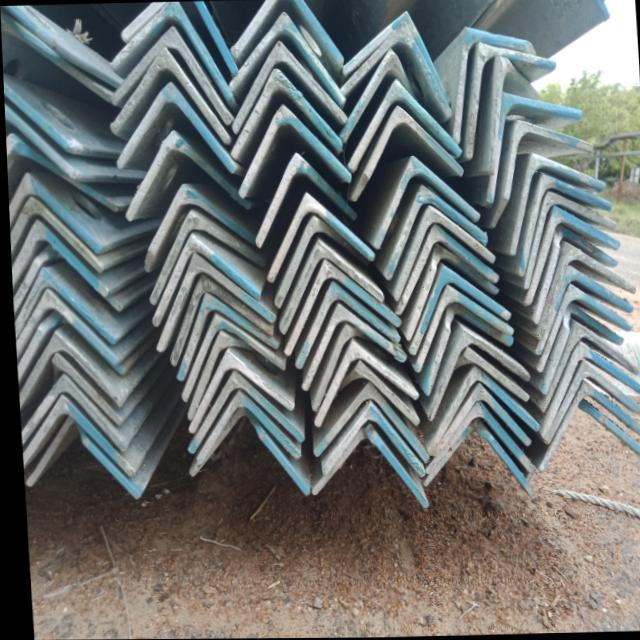metal-angles: (109, 26, 232, 124), (153, 253, 271, 354), (110, 2, 231, 99), (111, 47, 229, 143), (124, 130, 247, 222), (147, 212, 264, 306), (282, 261, 397, 356), (490, 123, 593, 229), (116, 81, 234, 172), (231, 42, 345, 135), (350, 107, 461, 202), (347, 79, 460, 172), (229, 12, 344, 103), (464, 43, 555, 157), (340, 24, 450, 116), (488, 94, 581, 202), (449, 27, 537, 141), (239, 105, 349, 196), (341, 11, 450, 102), (539, 343, 640, 441), (308, 422, 424, 507), (372, 157, 478, 250), (149, 236, 257, 327), (521, 207, 619, 307), (265, 192, 373, 282), (507, 154, 603, 255), (253, 153, 355, 248), (383, 185, 486, 279), (535, 382, 640, 474), (425, 367, 536, 454), (516, 175, 610, 277), (277, 242, 381, 334), (142, 186, 251, 273), (391, 209, 494, 301), (185, 371, 299, 454), (185, 391, 296, 476), (232, 70, 339, 158), (395, 224, 496, 316), (425, 331, 526, 422), (309, 382, 425, 461), (292, 282, 397, 369), (179, 315, 282, 403), (299, 304, 403, 391), (521, 193, 614, 290), (408, 268, 508, 358), (168, 278, 269, 366), (535, 244, 633, 334), (313, 342, 415, 428), (18, 396, 129, 475), (5, 132, 117, 210), (411, 288, 511, 374), (174, 296, 275, 381), (403, 248, 495, 341), (531, 226, 617, 325), (539, 323, 636, 410), (419, 420, 531, 495), (533, 269, 629, 356), (534, 285, 628, 373), (186, 353, 289, 433), (424, 401, 531, 476), (273, 216, 359, 309), (18, 373, 121, 449), (541, 364, 637, 444), (423, 305, 511, 392), (16, 332, 117, 407), (13, 290, 114, 364), (318, 405, 421, 477), (539, 305, 621, 395), (13, 269, 112, 342), (9, 220, 104, 295), (7, 173, 99, 250), (430, 384, 527, 457), (340, 51, 416, 142), (8, 196, 98, 270), (487, 59, 539, 173), (184, 333, 248, 419), (338, 361, 415, 426), (454, 348, 525, 401)
